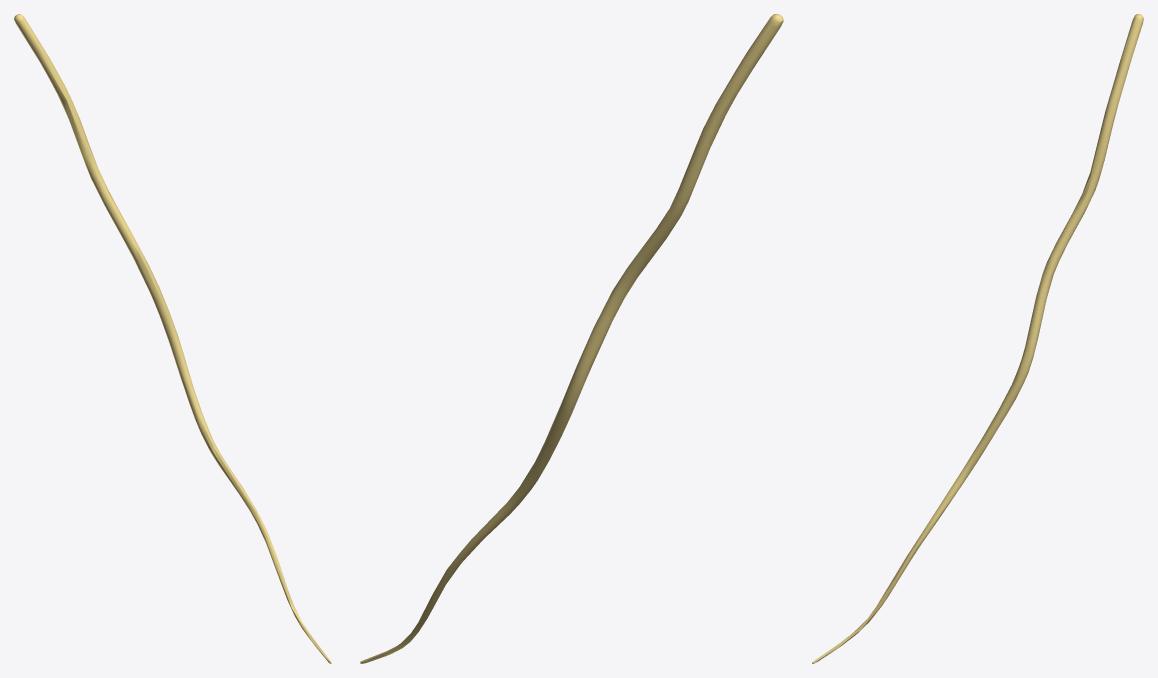
Rendered from fma44984_fj4278.glb.
3 views of the same model, side by side, from view 1: azimuth 30°, elevation 25°; view 2: azimuth 210°, elevation 25°; view 3: azimuth 270°, elevation 25° (orthographic). The views are drawn at different scales.
Parts seen in each view (by area): view 1: FMA44984_FJ4278; view 2: FMA44984_FJ4278; view 3: FMA44984_FJ4278.
Boxes of the visible parts, box(x1,y1,x2,y2) form: FMA44984_FJ4278: box(14, 14, 331, 663); FMA44984_FJ4278: box(360, 14, 783, 663); FMA44984_FJ4278: box(812, 14, 1143, 663).
Size of the model in its own units: 0.0328 by 0.1139 by 0.0596.
